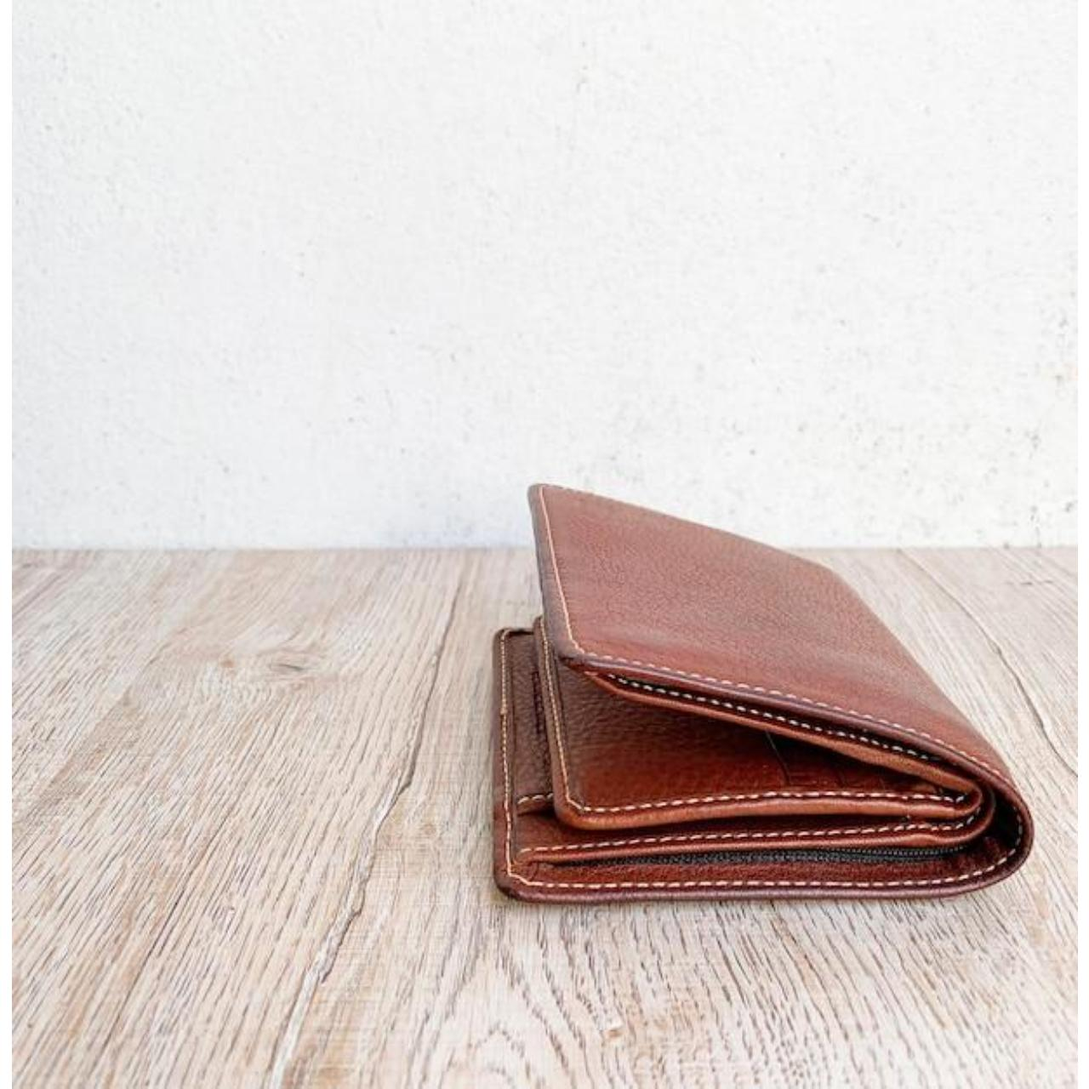wallet: (462, 468, 1078, 970)
